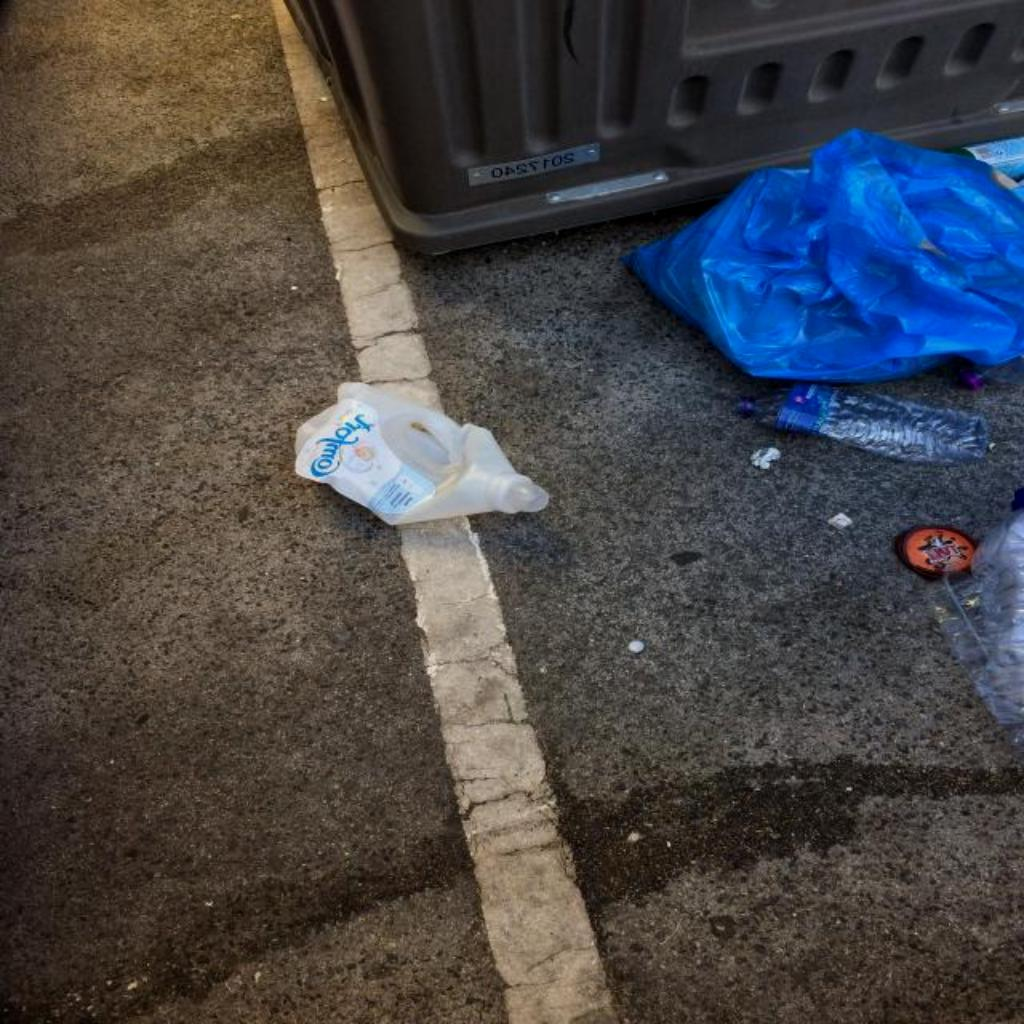garbage: (622, 129, 1024, 382), (271, 385, 550, 527), (930, 477, 1024, 746), (726, 382, 989, 469)
